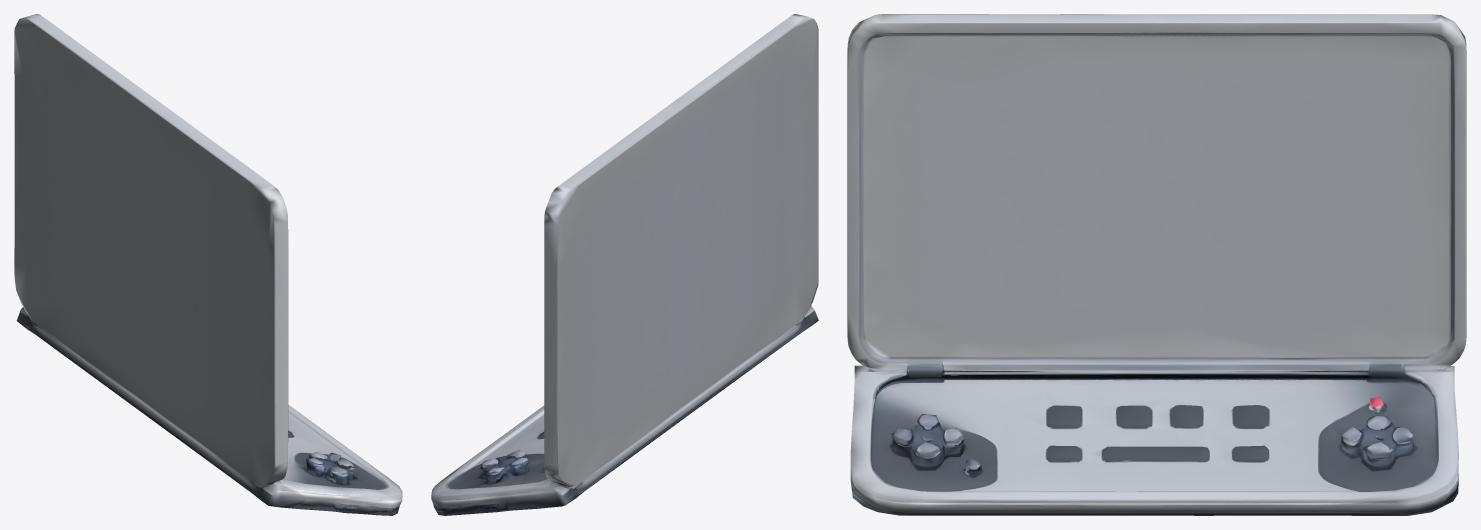
Rendered from futuristicpanel.obj.
3 renders of one model, left to right at view 1: azimuth 30°, elevation 25°; view 2: azimuth 150°, elevation 25°; view 3: azimuth 270°, elevation 25°, orthographic. The views are drawn at different scales.
Visible parts, largest first — view 1: tripo_node_67dd67ca-4ad4-4a9d-9d59-e3cf9dd91f82; view 2: tripo_node_67dd67ca-4ad4-4a9d-9d59-e3cf9dd91f82; view 3: tripo_node_67dd67ca-4ad4-4a9d-9d59-e3cf9dd91f82.
Boxes of the visible parts, box(x1,y1,x2,y2) form: tripo_node_67dd67ca-4ad4-4a9d-9d59-e3cf9dd91f82: box(14, 14, 402, 515); tripo_node_67dd67ca-4ad4-4a9d-9d59-e3cf9dd91f82: box(431, 14, 818, 515); tripo_node_67dd67ca-4ad4-4a9d-9d59-e3cf9dd91f82: box(847, 14, 1466, 515).
Bounding box in the file's own units: 0.3323 × 0.7487 × 0.9999.
1 material, 1 textured.
